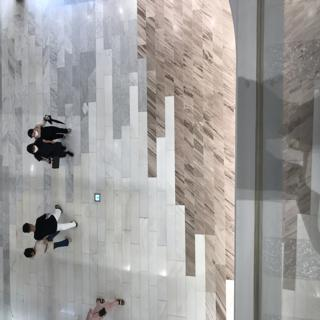person: (24, 143, 80, 171), (22, 213, 80, 237), (24, 115, 77, 139), (20, 244, 77, 261)
